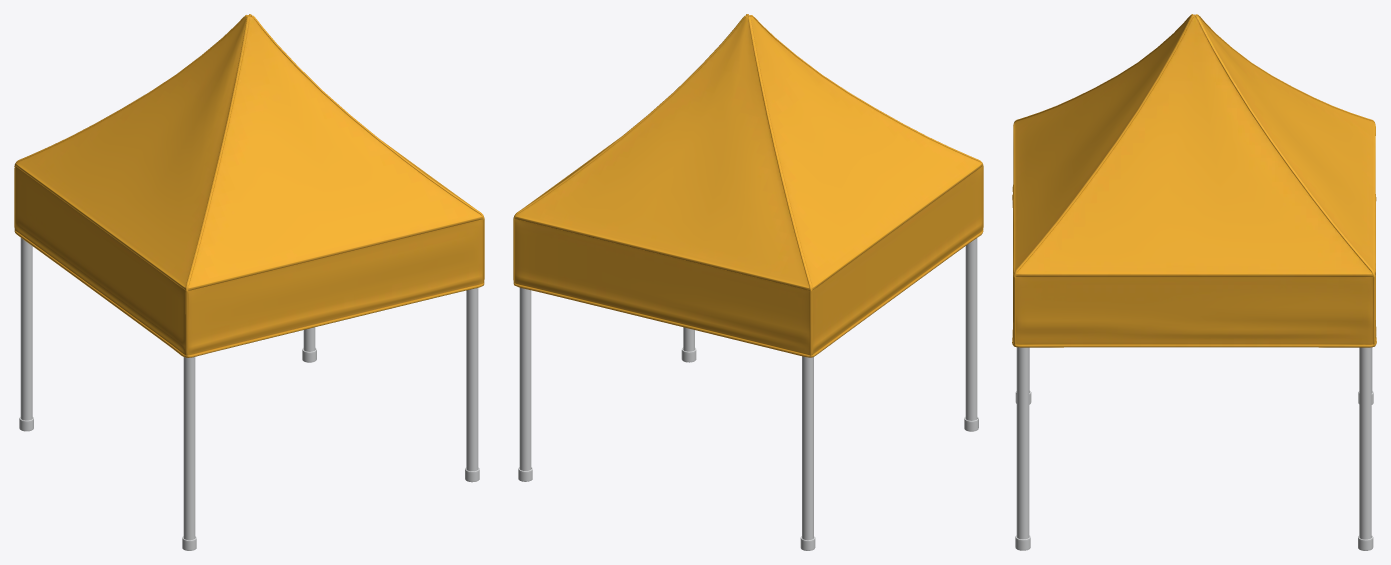
The model's file is tent-5x5.glb.
3 renders of one model, left to right at view 1: azimuth 30°, elevation 25°; view 2: azimuth 150°, elevation 25°; view 3: azimuth 270°, elevation 25°, orthographic. The views are drawn at different scales.
Visible parts, largest first — view 1: fabric, leg5; view 2: fabric, leg5; view 3: fabric, leg5.
Boxes of the visible parts, left/top/right/bottom form: fabric: left=14, top=14, right=484, bottom=357; leg5: left=19, top=238, right=479, bottom=550; fabric: left=513, top=14, right=983, bottom=357; leg5: left=518, top=238, right=978, bottom=550; fabric: left=1012, top=14, right=1376, bottom=347; leg5: left=1015, top=347, right=1373, bottom=550.
Size of the model in its own units: 1.53 by 2.13 by 1.53.
Materials: 3 (1 with a texture image).
